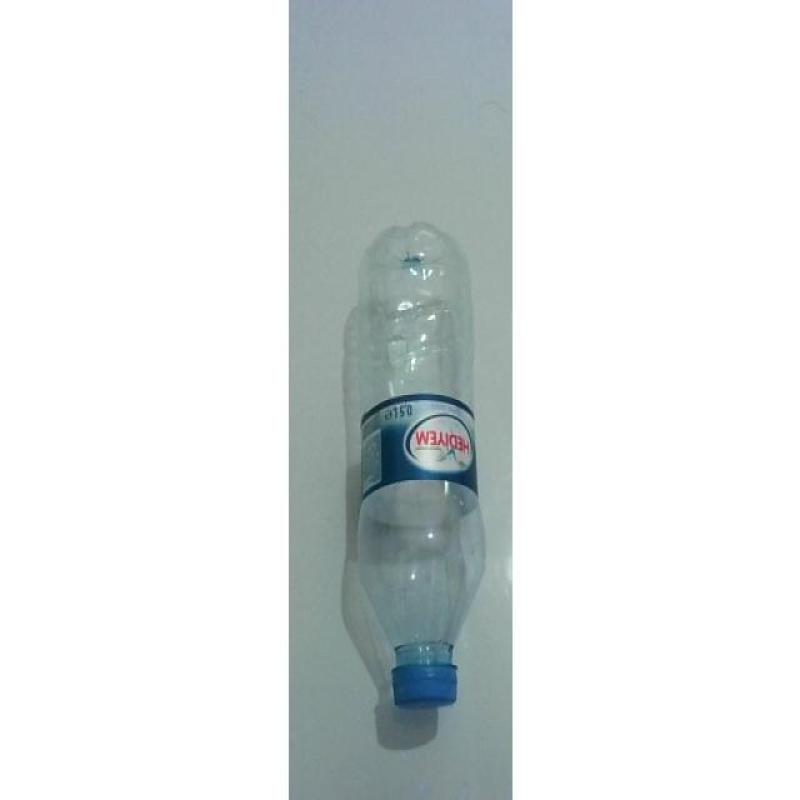botella: (356, 221, 489, 709)
